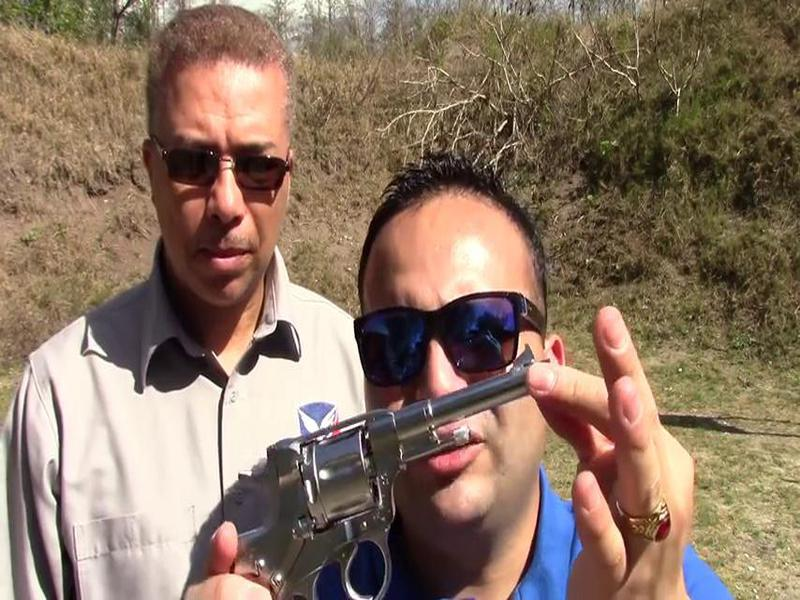Revolver: (214, 342, 582, 600)
